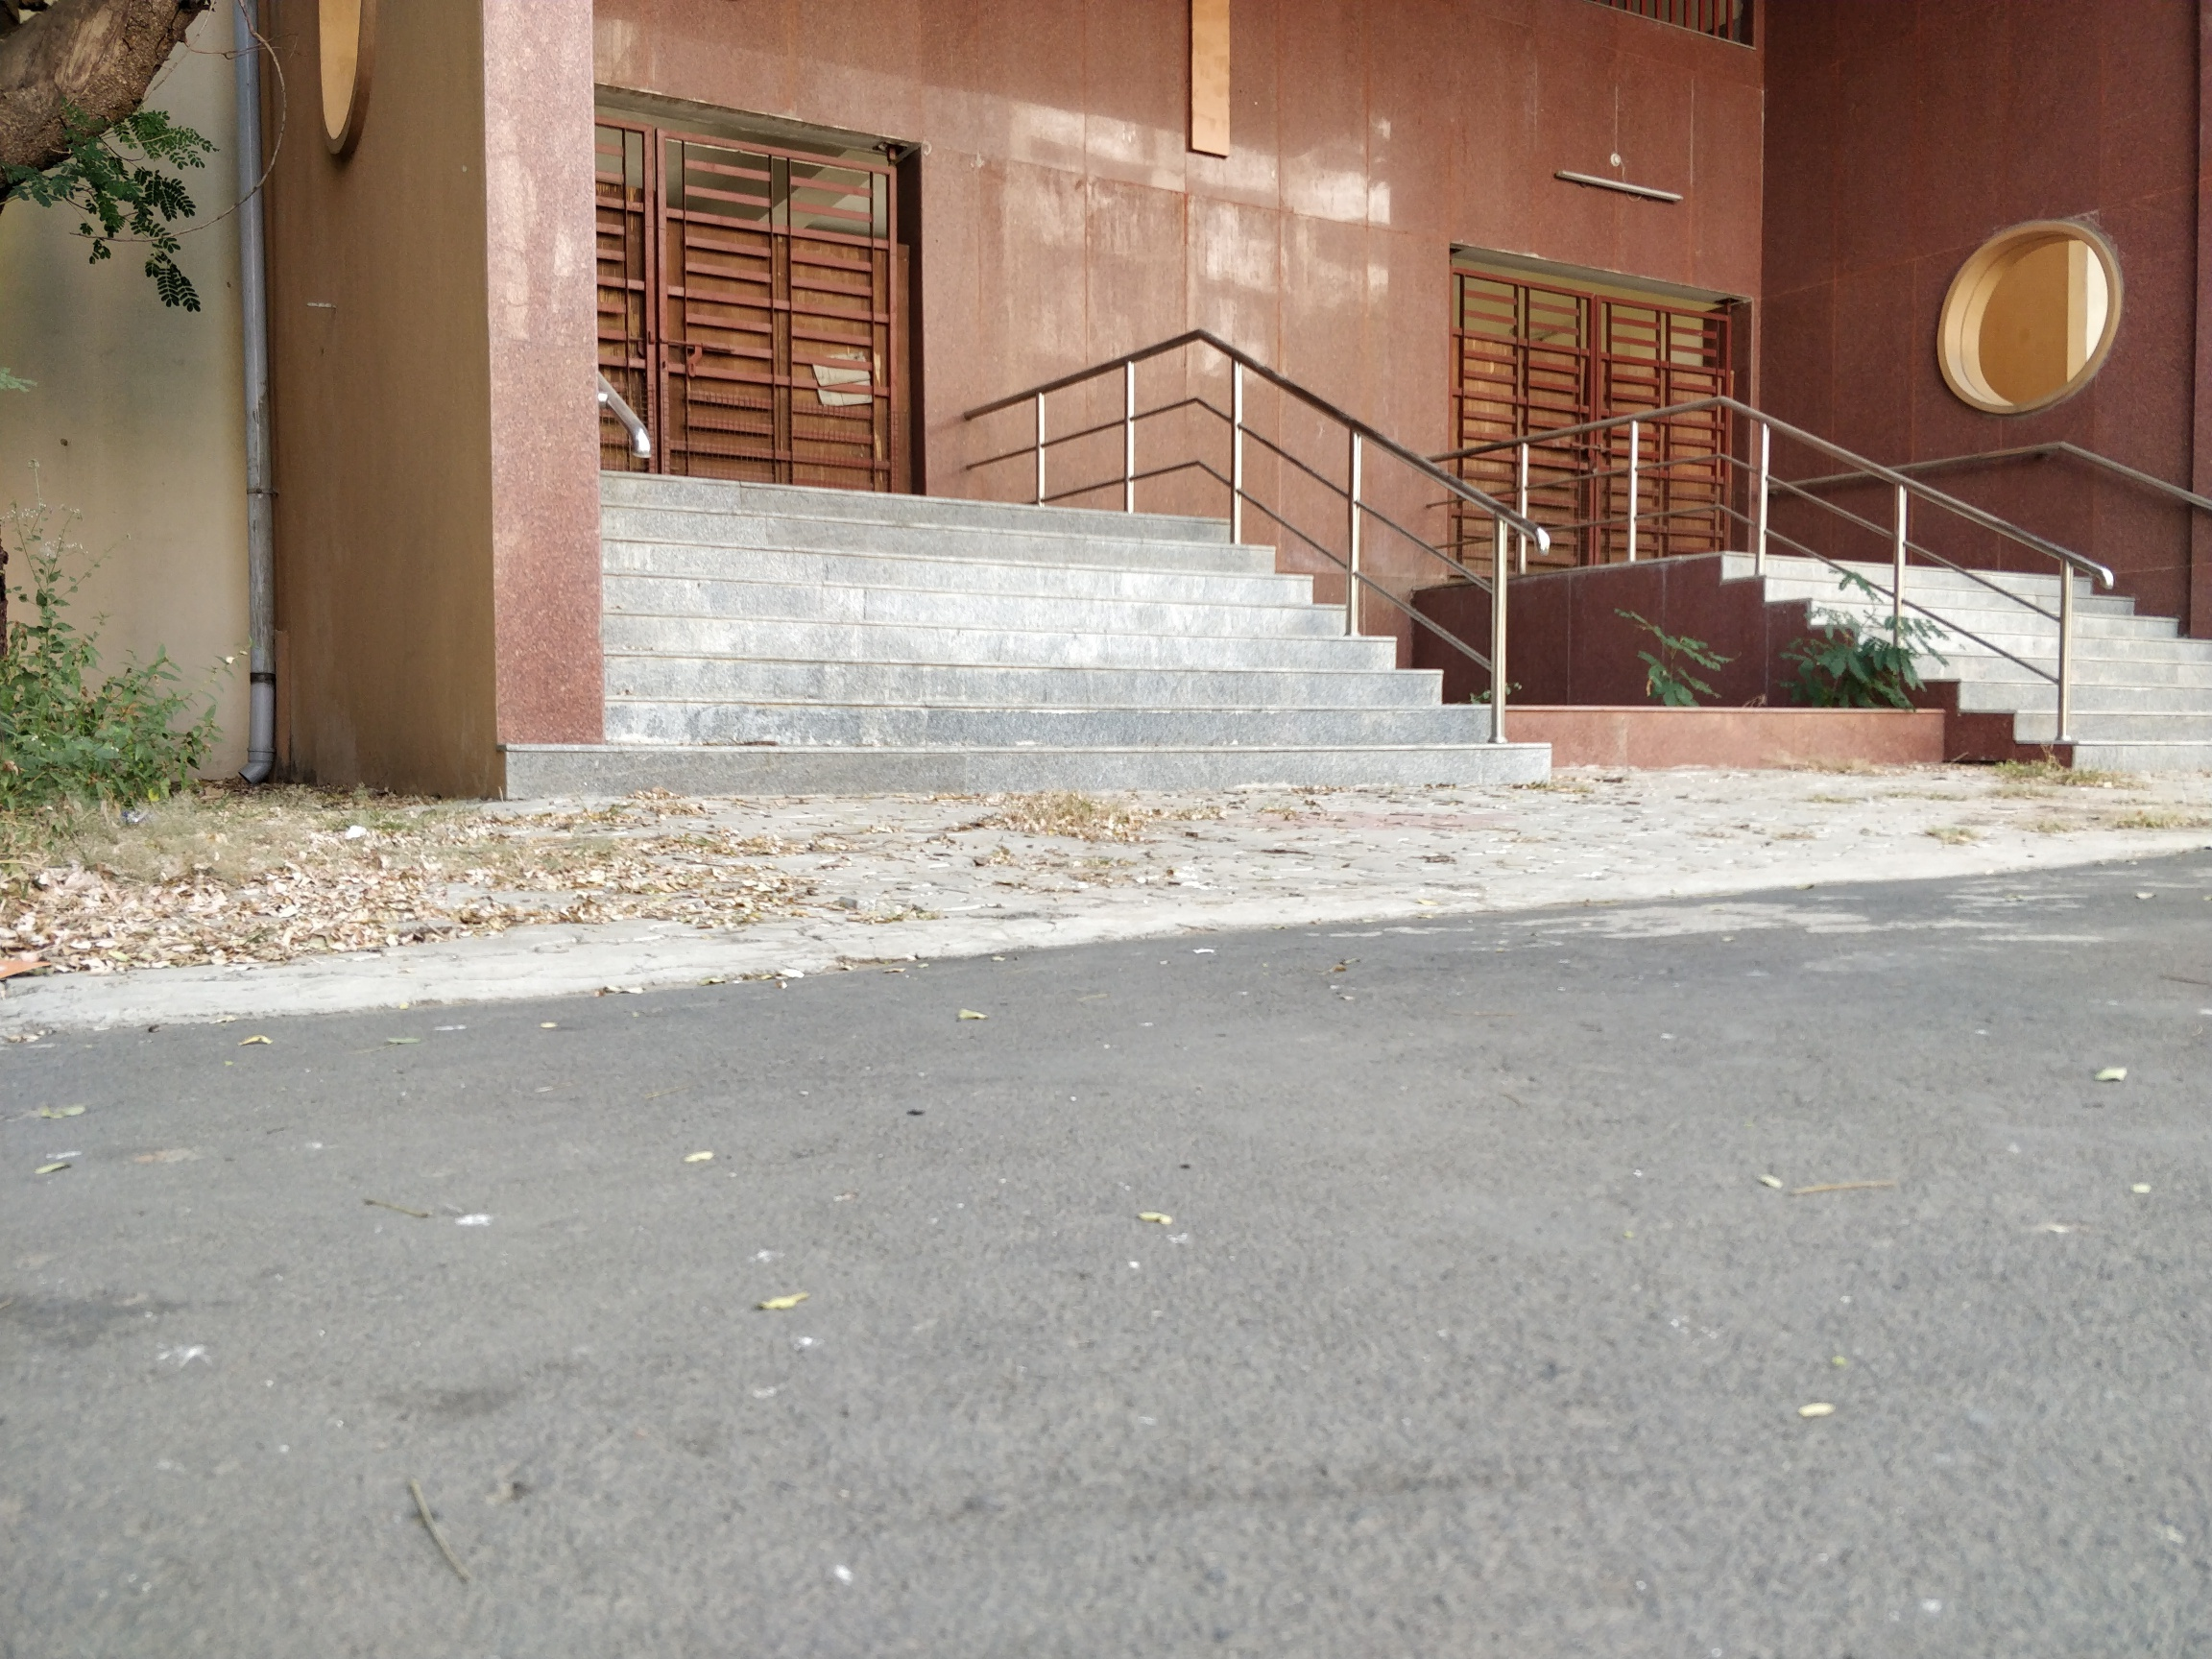stairs_up: (594, 460, 1552, 793), (1698, 549, 2212, 765)
